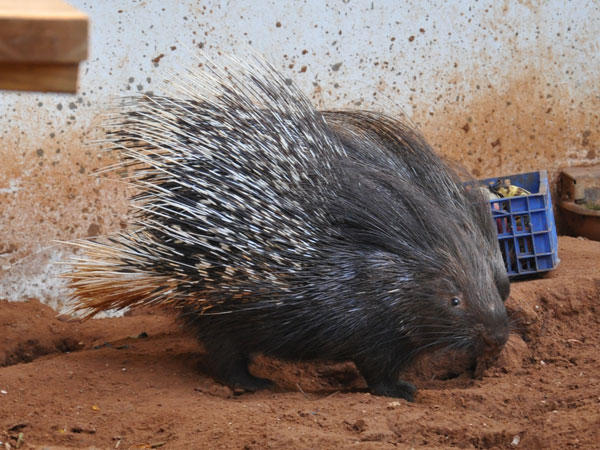porcupine: (63, 56, 521, 406)
